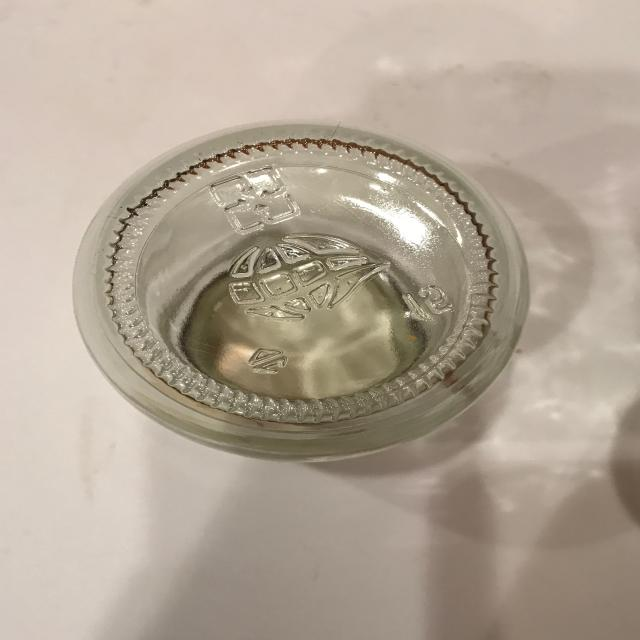glass: (72, 119, 531, 463)
